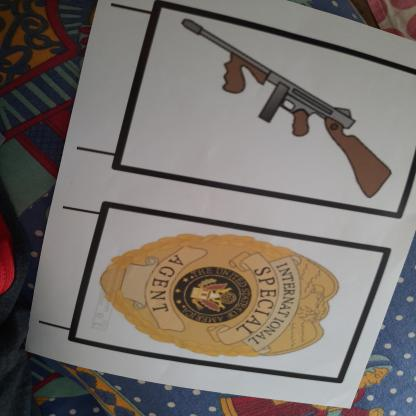Bootlegger: (171, 11, 403, 203)
G-man: (84, 221, 361, 370)
